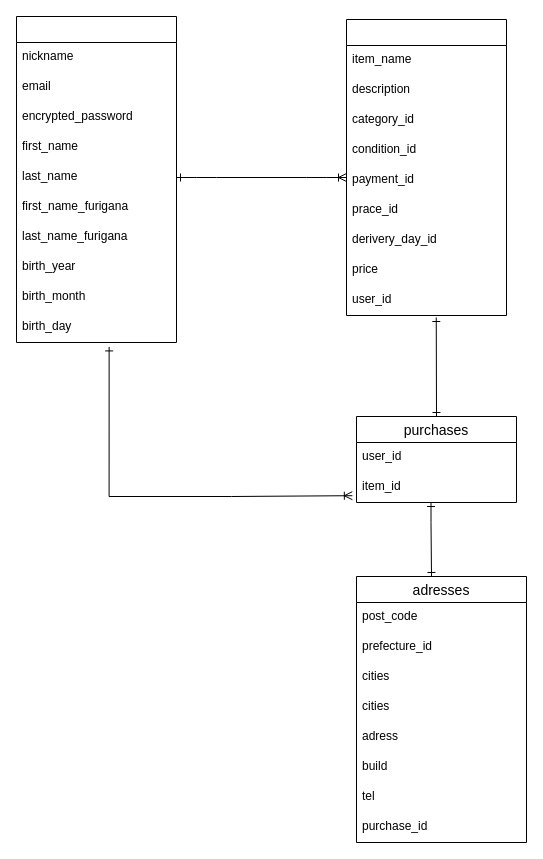
The diagram is 543 pixels wide and 859 high, and some of its shapes have lost their labels. The box of each missing label's shape, as (x1, y1, x2, y2) in pixels:
items: (346, 18, 506, 316)
Users: (16, 16, 176, 342)
